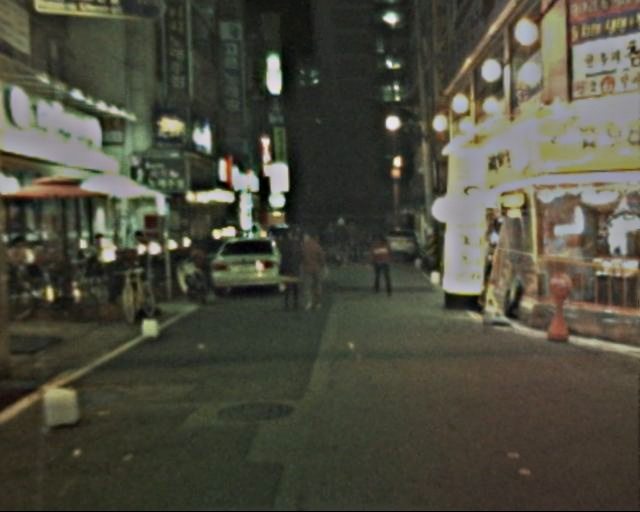person: (297, 225, 333, 317), (274, 225, 308, 317), (365, 225, 397, 301), (328, 211, 355, 272)
